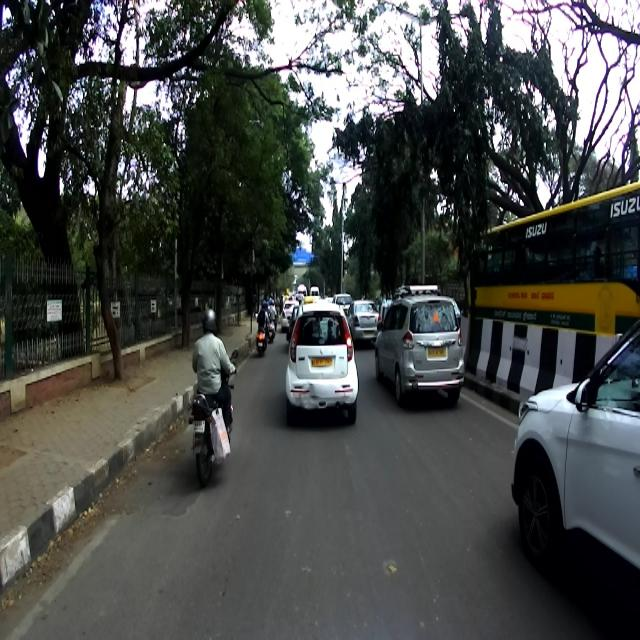Car_Hyundai: (512, 317, 640, 574)
Car_Maruti-Suzuki: (374, 284, 464, 406), (285, 302, 359, 425)
bus: (472, 182, 640, 353)
motorcycle_Hero: (188, 350, 238, 486)
